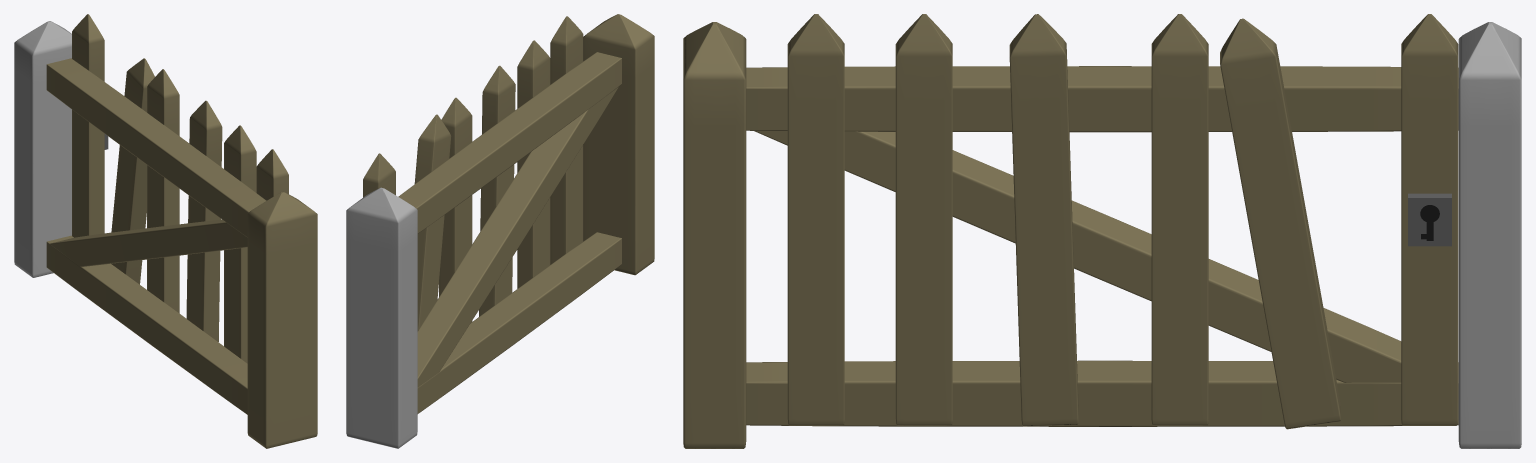
Rendered from Fence.fbx.
The picture shows the model from 3 angles, left to right: view 1: azimuth 30°, elevation 25°; view 2: azimuth 150°, elevation 25°; view 3: azimuth 270°, elevation 25°; orthographic projection. The views are drawn at different scales.
Parts seen in each view (by area): view 1: pDisc2, pCube24; view 2: pDisc2, pCube24; view 3: pDisc2, pCube24.
Boxes of the visible parts, x1,y1,x2,y2 form: pDisc2: (46,14,317,448); pCube24: (14,21,71,277); pDisc2: (363,14,654,413); pCube24: (346,187,417,448); pDisc2: (683,14,1458,448); pCube24: (1458,22,1521,448).
Bounding box in the file's own units: 0.5243 × 2.14 × 3.78.
